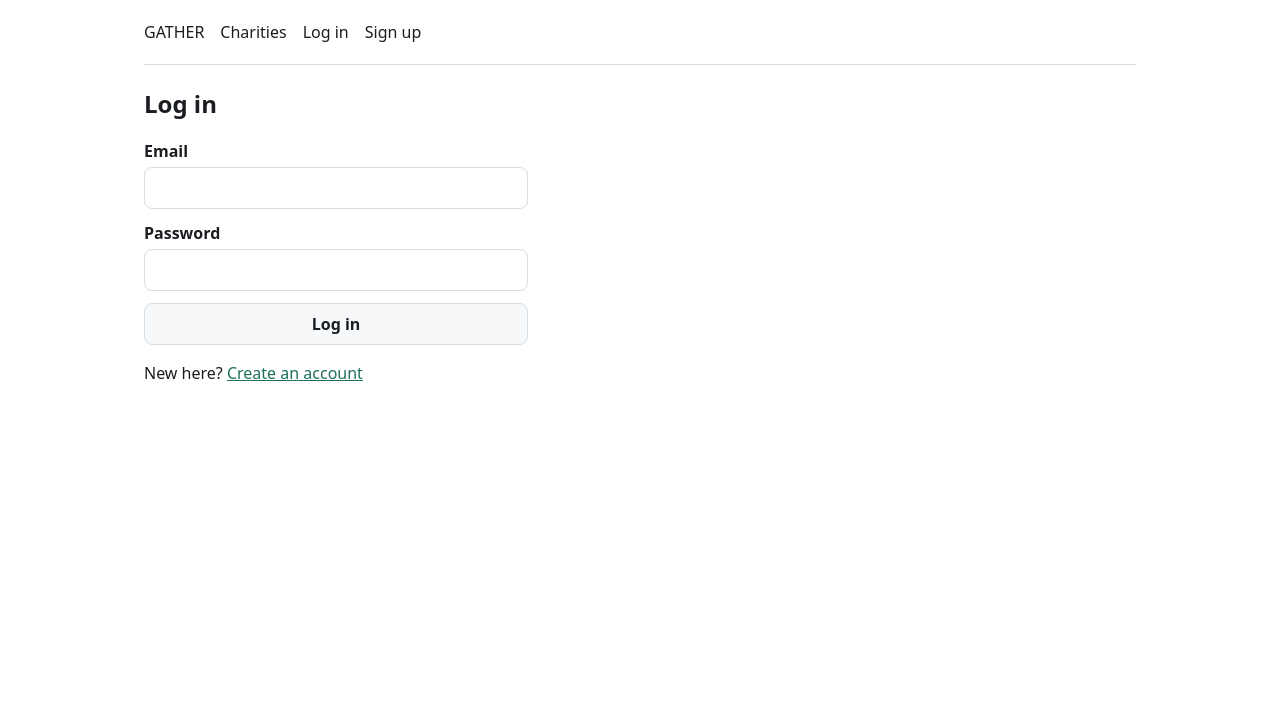
Test case: logging in › signs in and returns the user to the page they were trying to reach
Expected: the heading "Log in" is shown, [144, 87, 217, 120]
Type " root@example.test " into the field labelled "Email". click: (336, 188)
box: [144, 167, 528, 209]
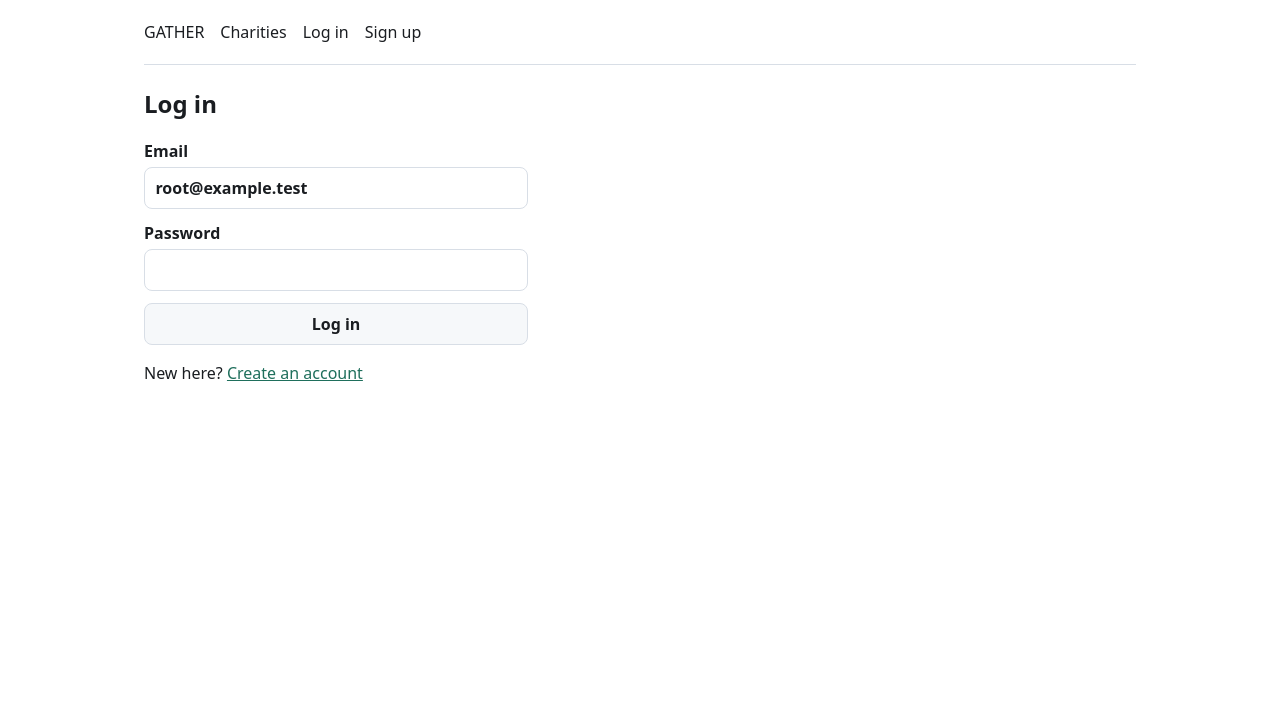
Type "correct horse" into the password field labelled "Password". click: (336, 270)
box: [144, 249, 528, 291]
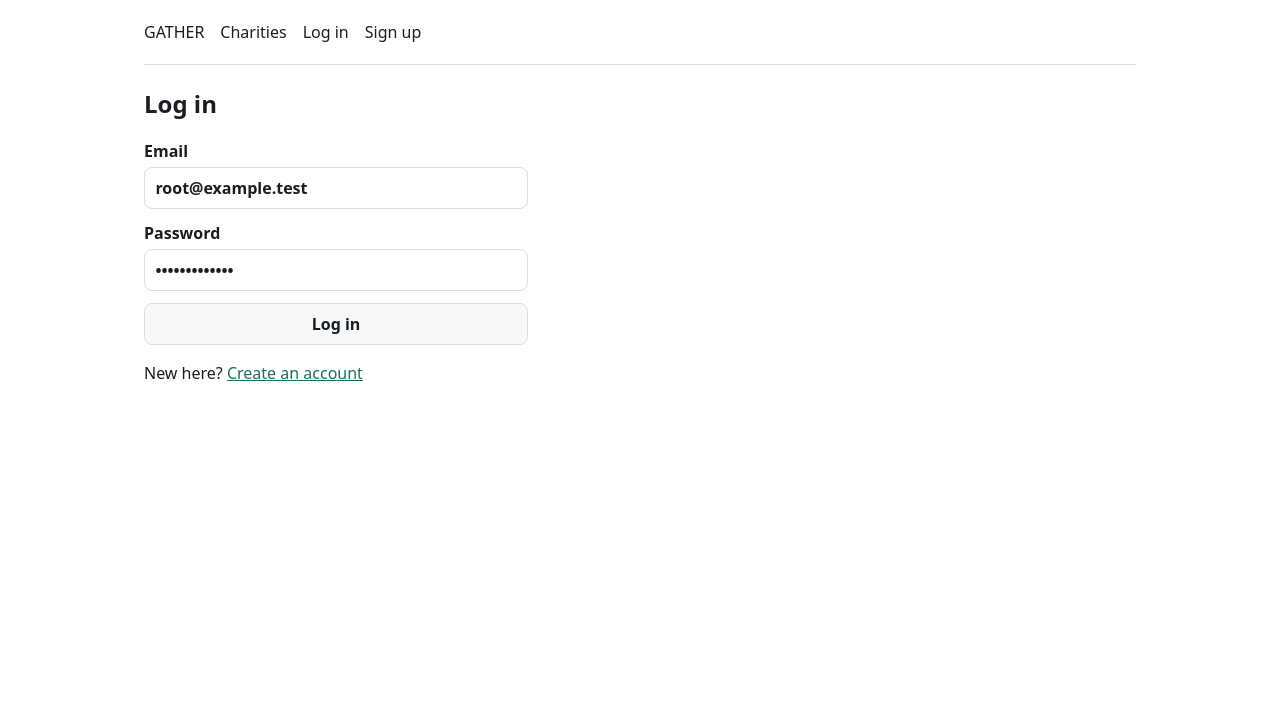
Click the button "Log in". click: (336, 324)
box: [144, 303, 528, 345]
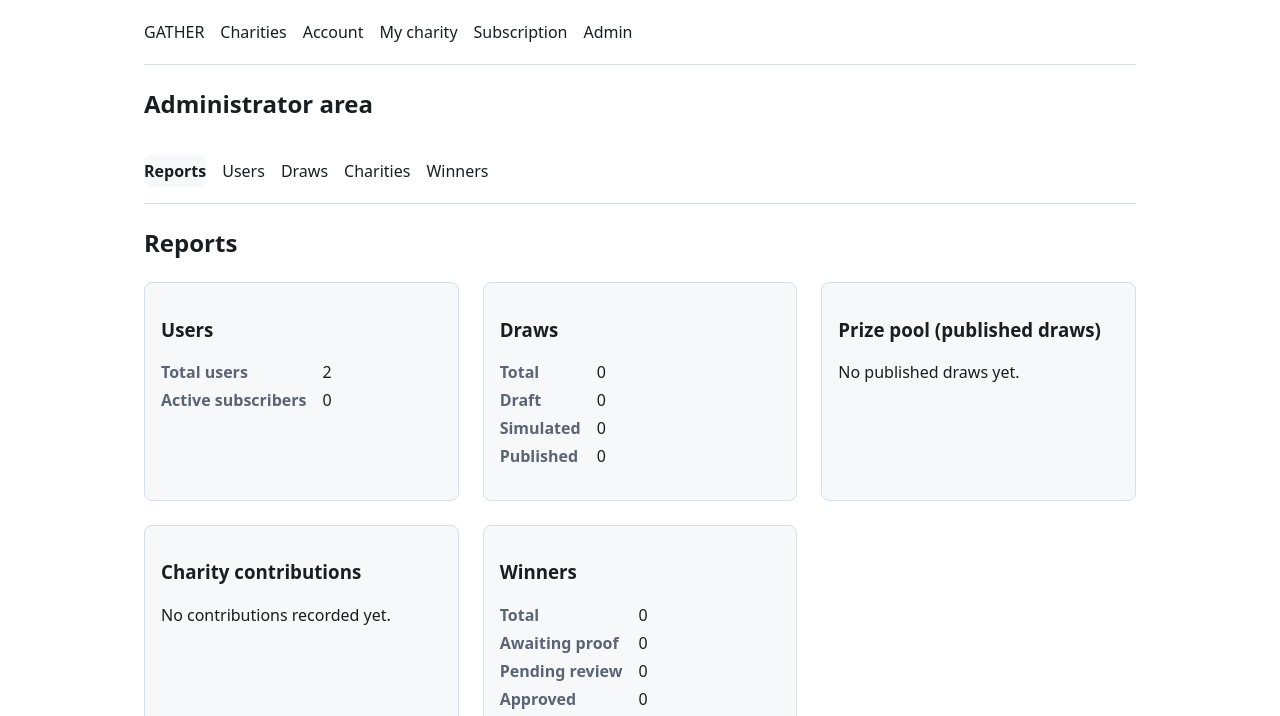
Expected: the heading "Administrator area" is shown, [144, 87, 373, 120]
